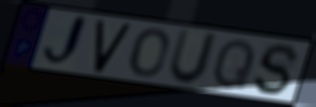J: (40, 13, 90, 70)
O: (128, 27, 171, 79)
Q: (211, 37, 257, 90)
S: (251, 42, 301, 97)
U: (165, 27, 221, 88)
V: (92, 19, 134, 75)
